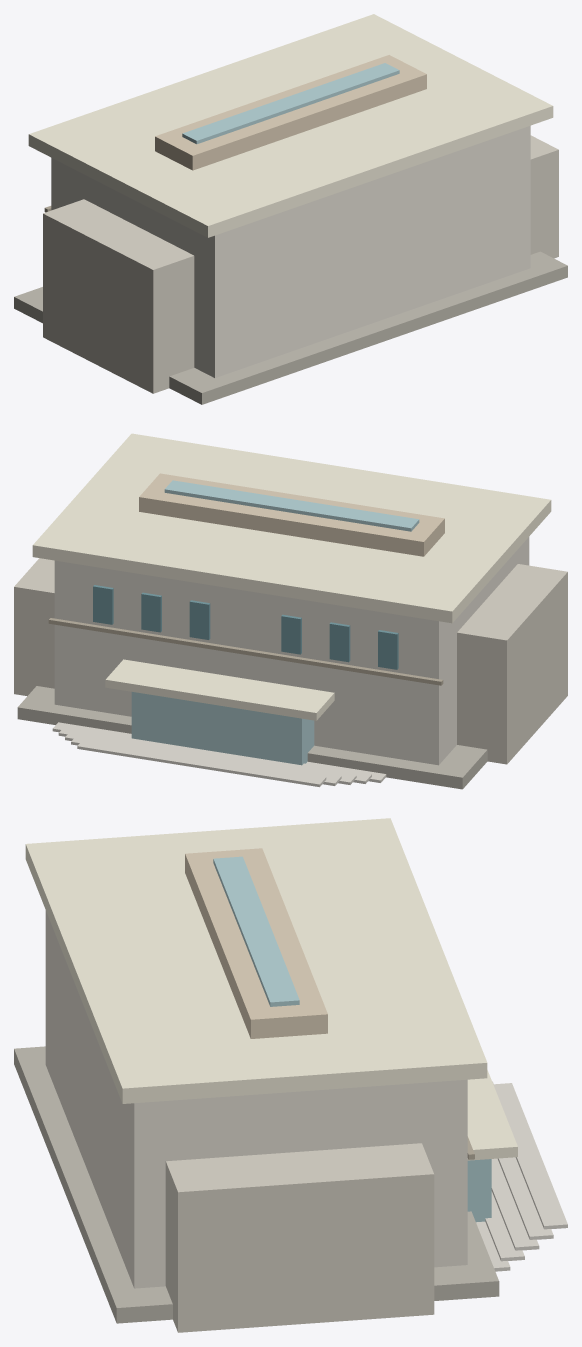
Rendered from hanul-overview.glb.
The picture shows the model from 3 angles, top to bottom: view 1: azimuth 30°, elevation 25°; view 2: azimuth 150°, elevation 25°; view 3: azimuth 270°, elevation 25°; orthographic projection. The views are drawn at different scales.
Bounding box in the file's own units: 34.42 × 13.39 × 26.8.
